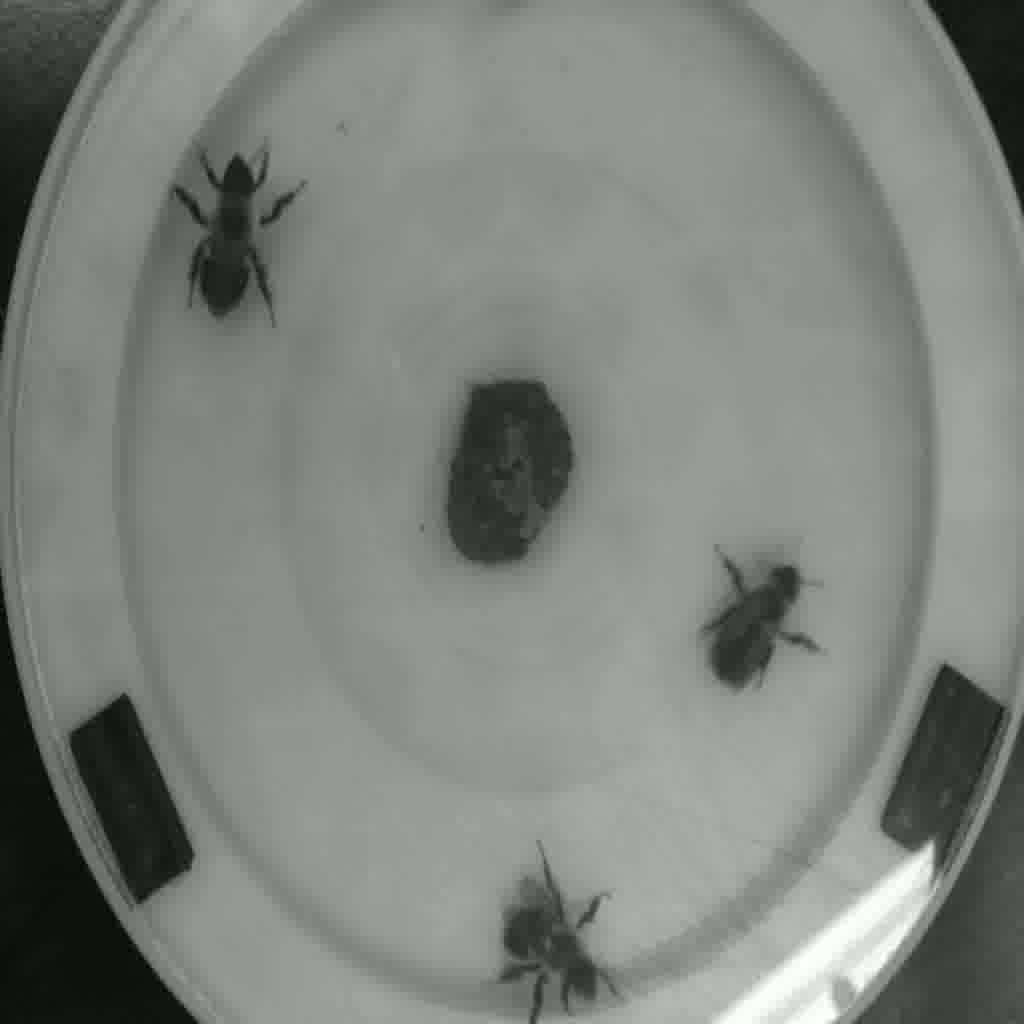bee: (155, 138, 324, 334), (482, 856, 639, 1024), (695, 531, 834, 688)
